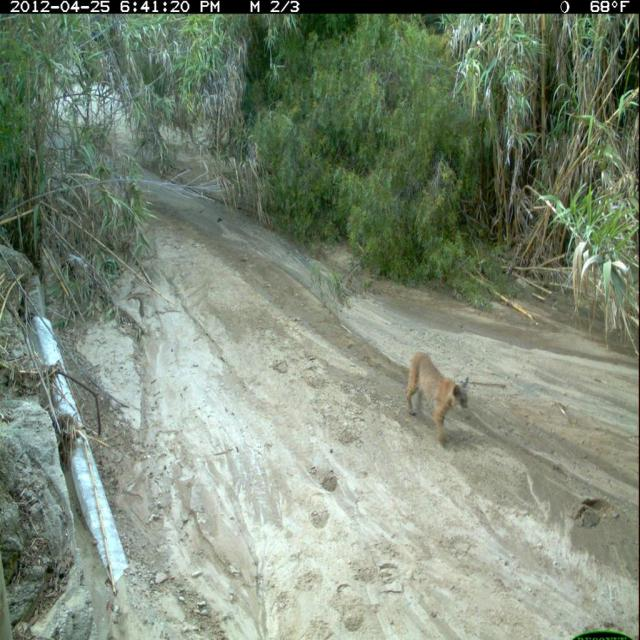bobcat: (403, 348, 471, 449)
